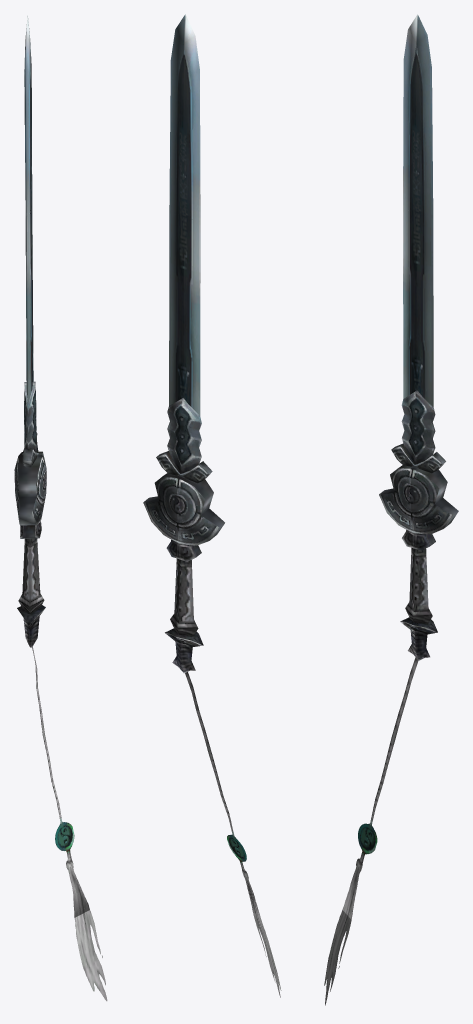
File: MaxExportedFBXFile.fbx
3 views of the same model, side by side, from view 1: azimuth 90°, elevation 25°; view 2: azimuth 150°, elevation 25°; view 3: azimuth 330°, elevation 25° (orthographic). The views are drawn at different scales.
Parts seen in each view (by area): view 1: DrawCall_0530; view 2: DrawCall_0530; view 3: DrawCall_0530.
Boxes of the visible parts, bbox=[...] form: DrawCall_0530: bbox=[14, 15, 107, 1001]; DrawCall_0530: bbox=[143, 14, 281, 997]; DrawCall_0530: bbox=[324, 14, 458, 1005].
Bounding box in the file's own units: 38.57 × 321 × 30.26.
Materials: 1 (1 with a texture image).
